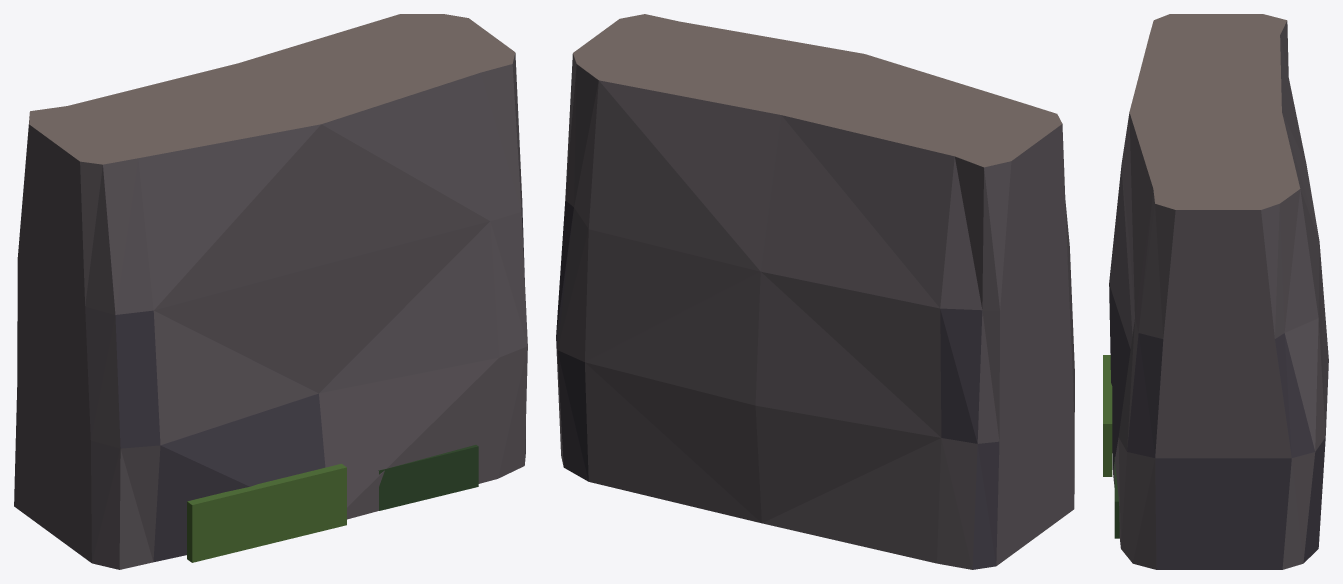
File: cave_wall_mossy.fbx
3 renders of one model, left to right at view 1: azimuth 30°, elevation 25°; view 2: azimuth 150°, elevation 25°; view 3: azimuth 270°, elevation 25°, orthographic. The views are drawn at different scales.
Parts seen in each view (by area): view 1: cave_wall_mossy; view 2: cave_wall_mossy; view 3: cave_wall_mossy.
Boxes of the visible parts, left/top/right/bottom form: cave_wall_mossy: left=14, top=14, right=527, bottom=569; cave_wall_mossy: left=556, top=14, right=1074, bottom=569; cave_wall_mossy: left=1103, top=14, right=1328, bottom=569.
Size of the model in its own units: 3.97 by 3.4 by 1.93.
